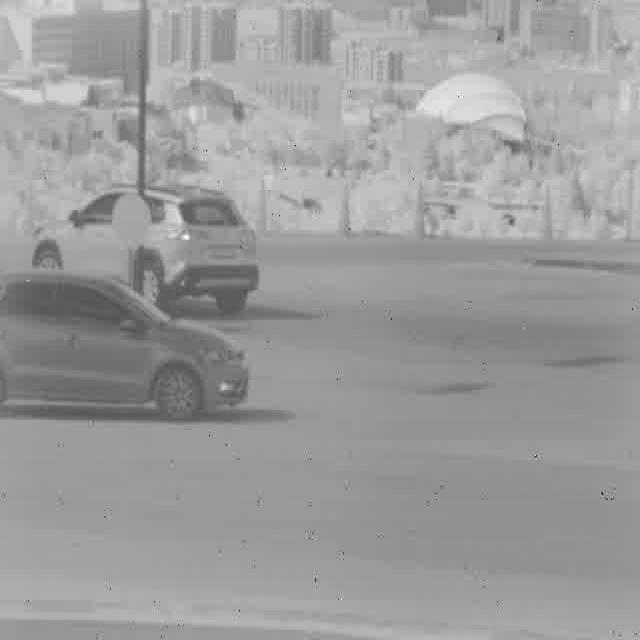Car: (0, 269, 252, 421), (32, 184, 260, 317)
